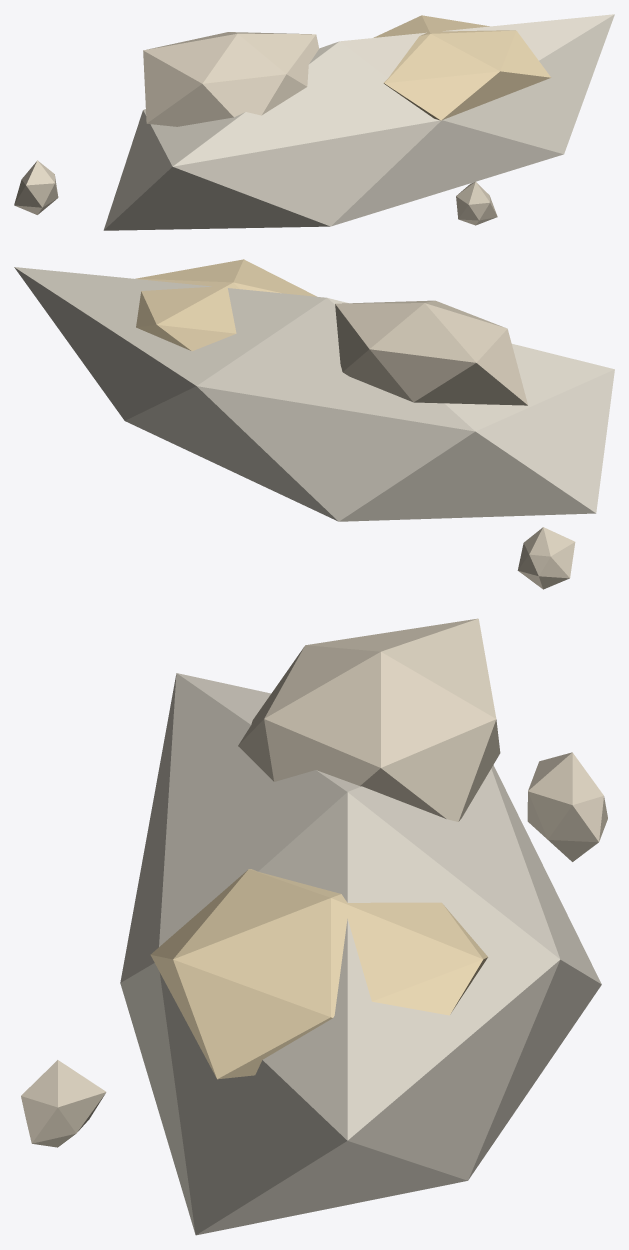
Rendered from vit_klippa_3.glb.
3 views of the same model, one above another, from view 1: azimuth 30°, elevation 25°; view 2: azimuth 150°, elevation 25°; view 3: azimuth 270°, elevation 25° (orthographic). The views are drawn at different scales.
Visible parts, largest first — view 1: vit_klippa_3; view 2: vit_klippa_3; view 3: vit_klippa_3.
Boxes of the visible parts, bbox=[...] form: vit_klippa_3: bbox=[14, 14, 614, 230]; vit_klippa_3: bbox=[14, 259, 614, 589]; vit_klippa_3: bbox=[21, 618, 607, 1235].
Size of the model in its own units: 15.09 by 5.14 by 7.05.
